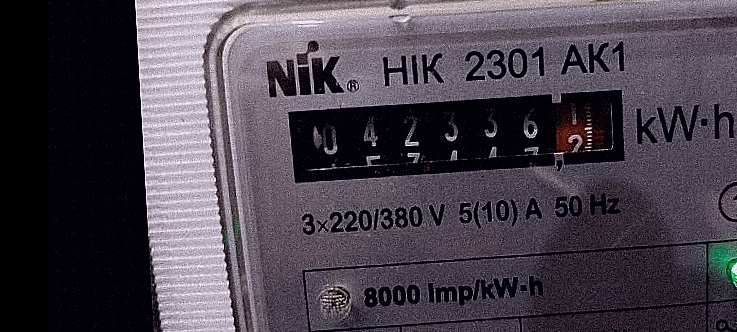0: (320, 120, 341, 156)
1: (567, 98, 581, 127)
2: (400, 112, 422, 149), (566, 132, 586, 154)
3: (441, 105, 462, 144), (479, 103, 501, 140)
4: (360, 111, 381, 149)
6: (518, 104, 542, 140)
screen: (280, 79, 637, 191)
